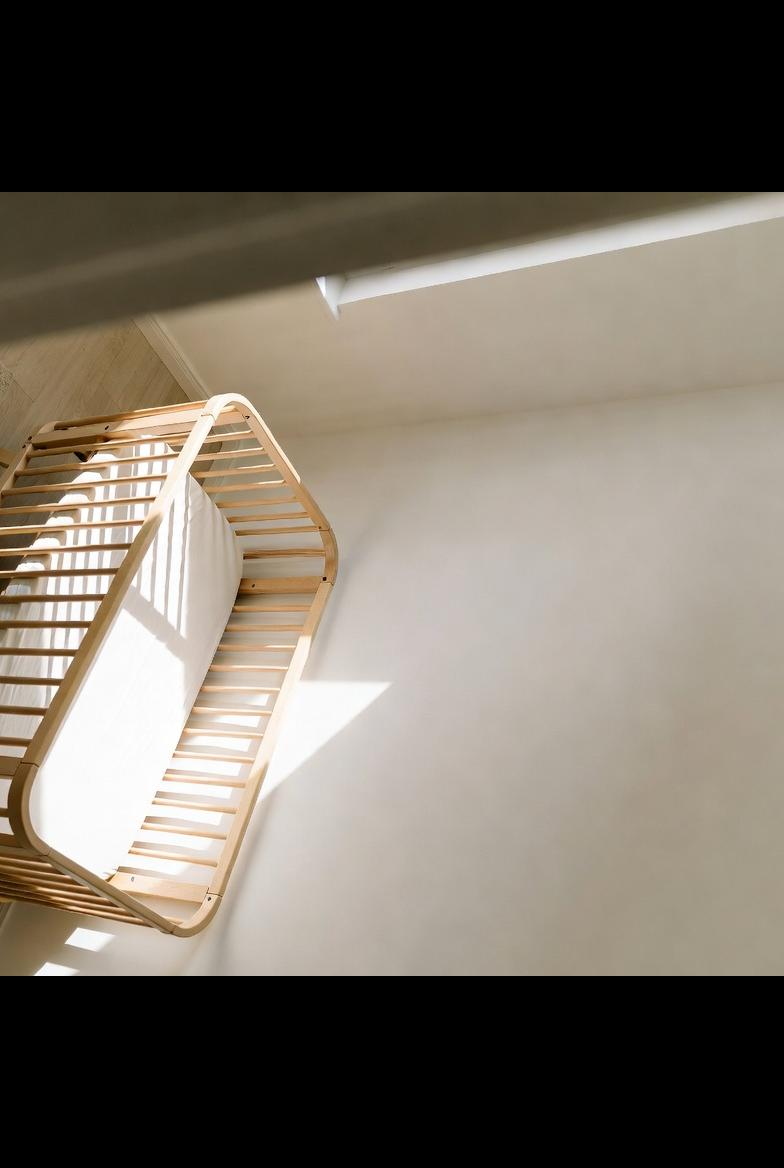crib: (0, 395, 336, 935)
